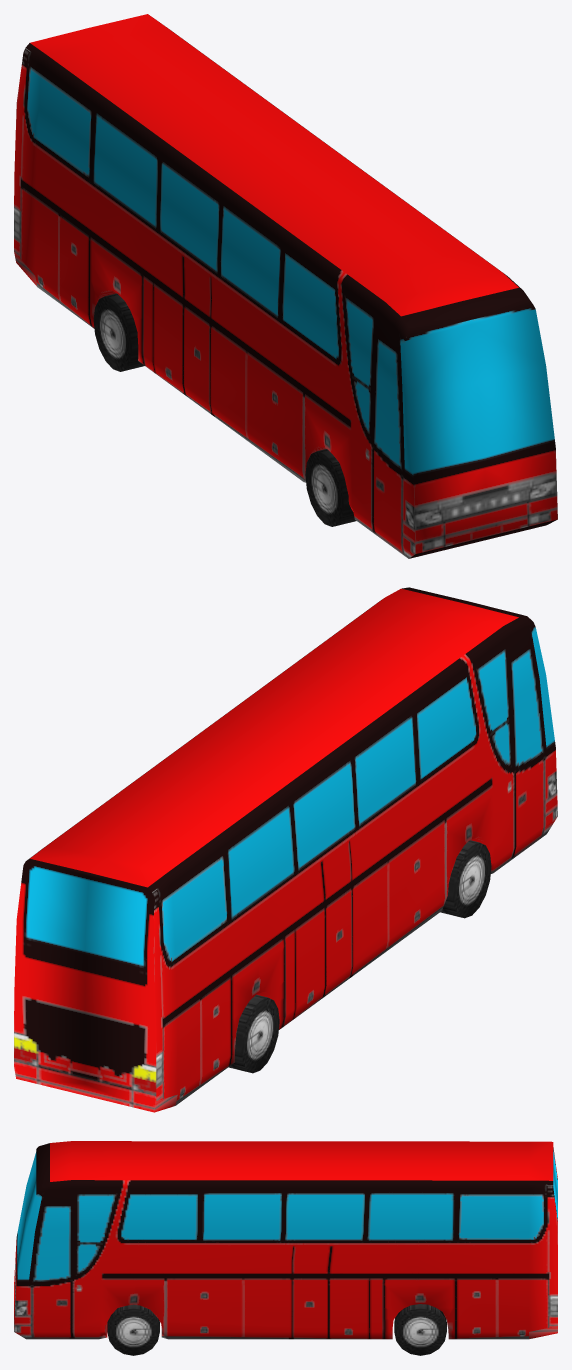
File: Onibus.fbx
3 renders of one model, top to bottom at view 1: azimuth 30°, elevation 25°; view 2: azimuth 150°, elevation 25°; view 3: azimuth 270°, elevation 25°, orthographic. The views are drawn at different scales.
Parts seen in each view (by area): view 1: Cube; view 2: Cube; view 3: Cube.
Boxes of the visible parts, left/top/right/bottom form: Cube: left=14, top=14, right=557, bottom=558; Cube: left=14, top=587, right=557, bottom=1112; Cube: left=14, top=1141, right=557, bottom=1355.
Bounding box in the file's own units: 167 × 273 × 787.
